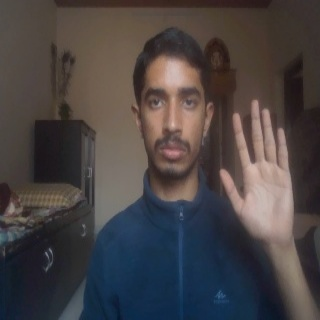Face: (131, 27, 216, 185)
Hello: (218, 96, 300, 251)
